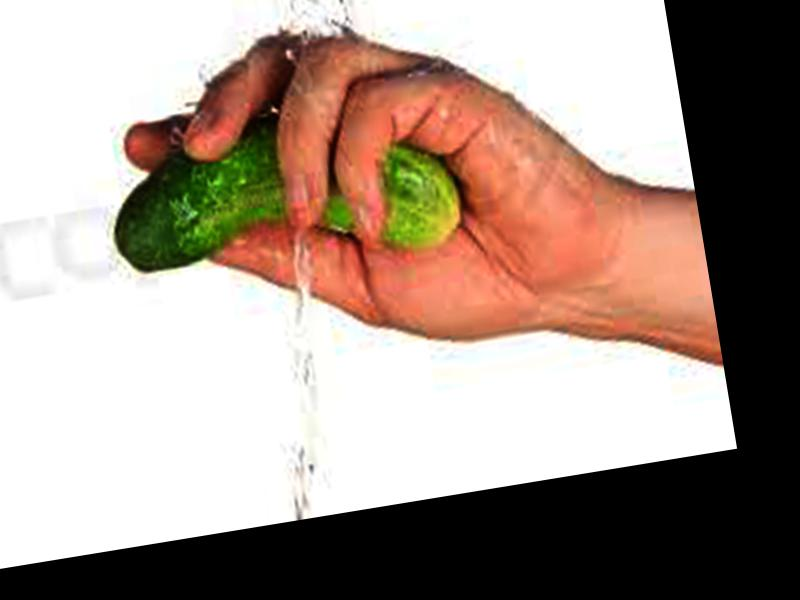Cucumber: (99, 97, 464, 292)
